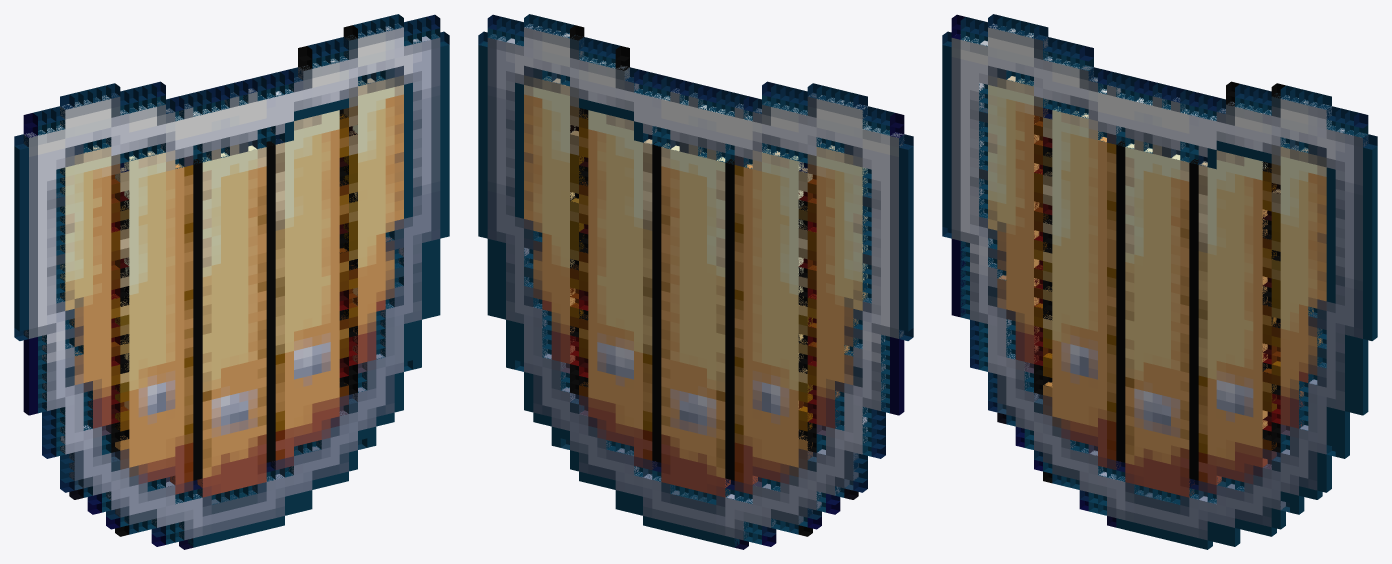
File: tankrelic.fbx
3 renders of one model, left to right at view 1: azimuth 30°, elevation 25°; view 2: azimuth 150°, elevation 25°; view 3: azimuth 330°, elevation 25°, orthographic.
Parts seen in each view (by area): view 1: tankrelic; view 2: tankrelic; view 3: tankrelic.
Part boxes in pixels (x1,y1,x2,y2): tankrelic: (14,14,449,549); tankrelic: (478,14,913,549); tankrelic: (942,14,1377,549).
Bounding box in the file's own units: 4606 × 4900 × 98.
